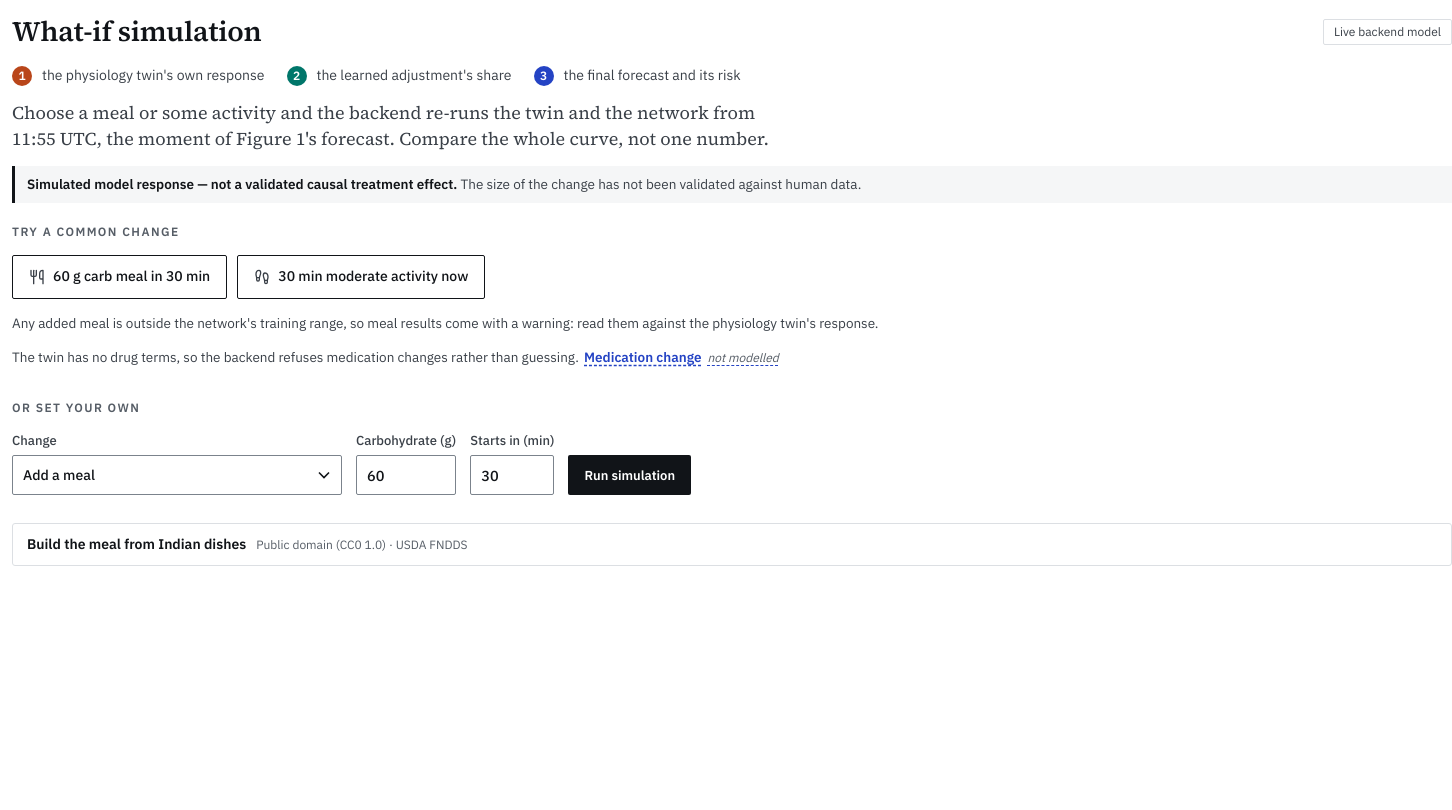
Test: ScenarioEditor — backend-driven what-if › shows the backend-unavailable state on a network failure and fabricates nothing
Click the button "Run simulation": [630, 475] box x1=568 y1=455 x2=691 y2=495
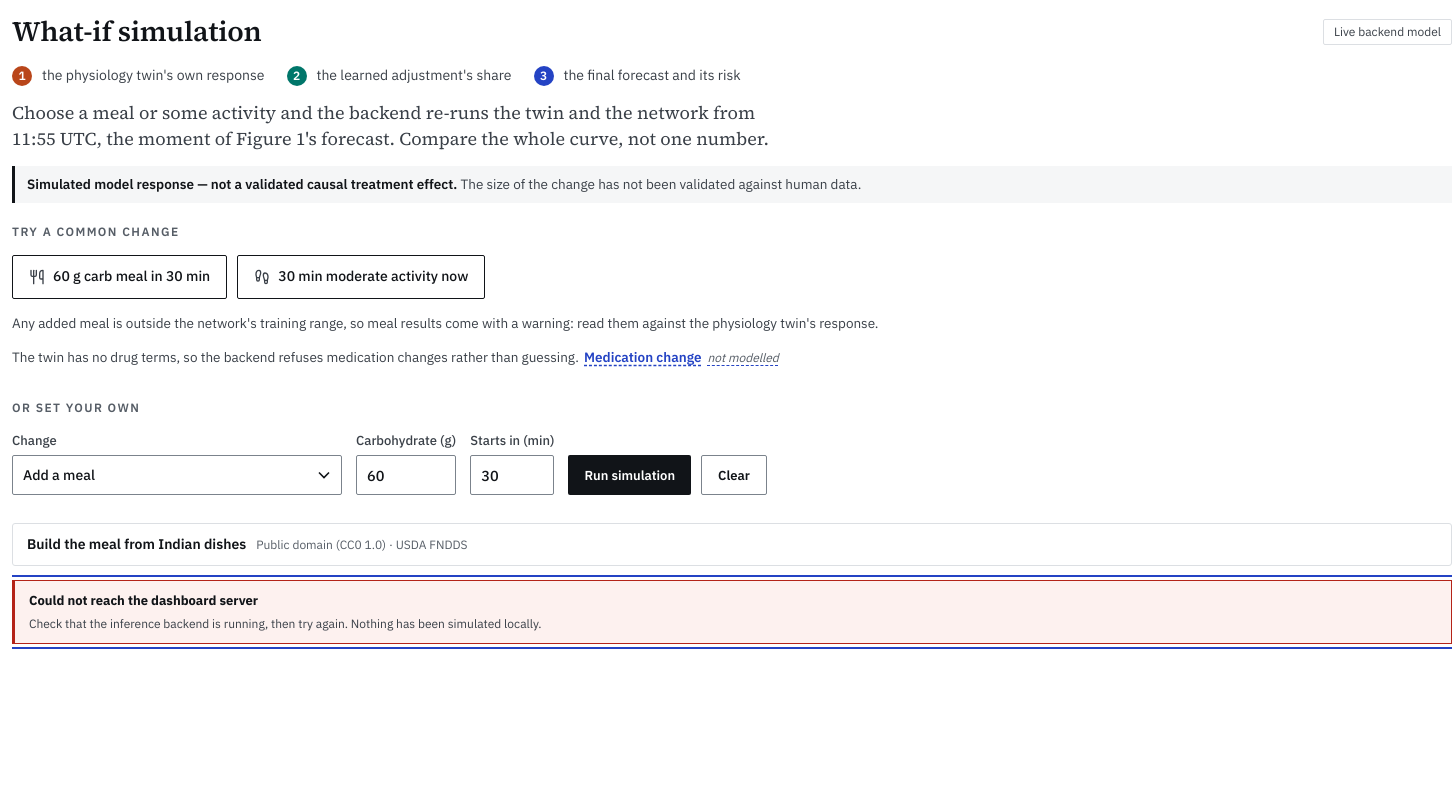
Check: the element with test id "scenario-error" shows "Nothing has been simulated locally", box x1=29 y1=616 x2=542 y2=631
